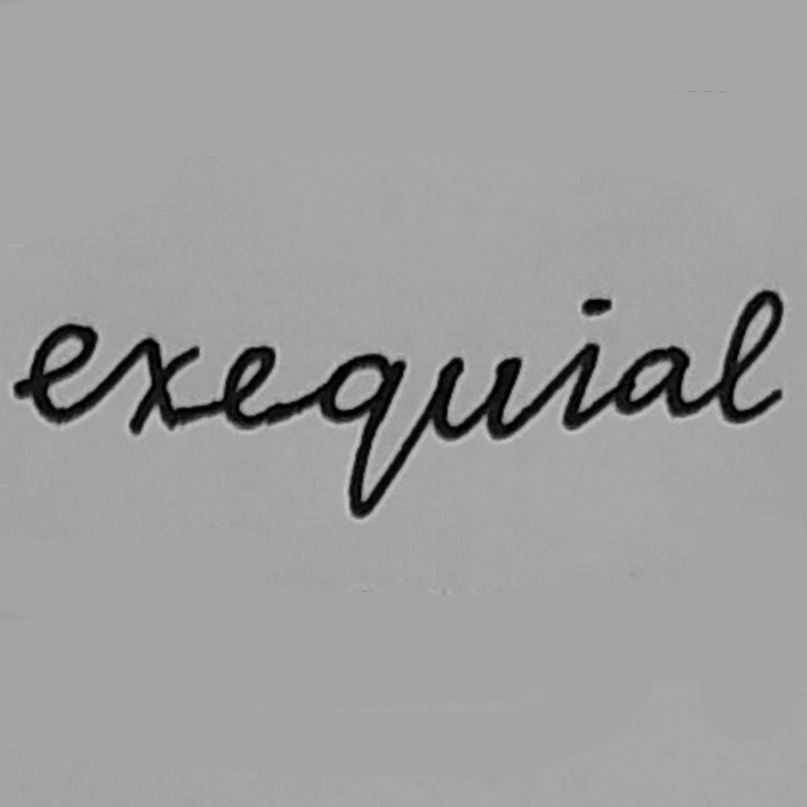a: (507, 372, 550, 413)
e: (206, 357, 257, 419), (311, 369, 353, 425)
i: (476, 346, 514, 420)
l: (560, 342, 600, 418)
q: (357, 373, 410, 464)
u: (415, 375, 469, 425)
x: (260, 363, 306, 425)
